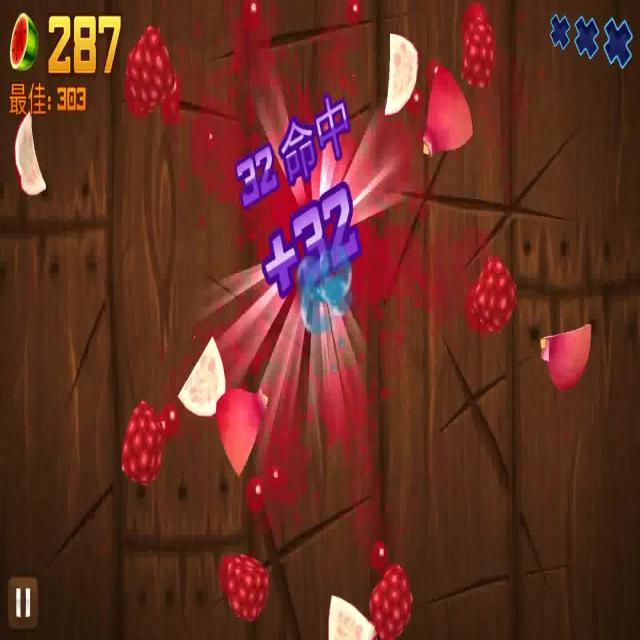fruit: (462, 250, 514, 334)
